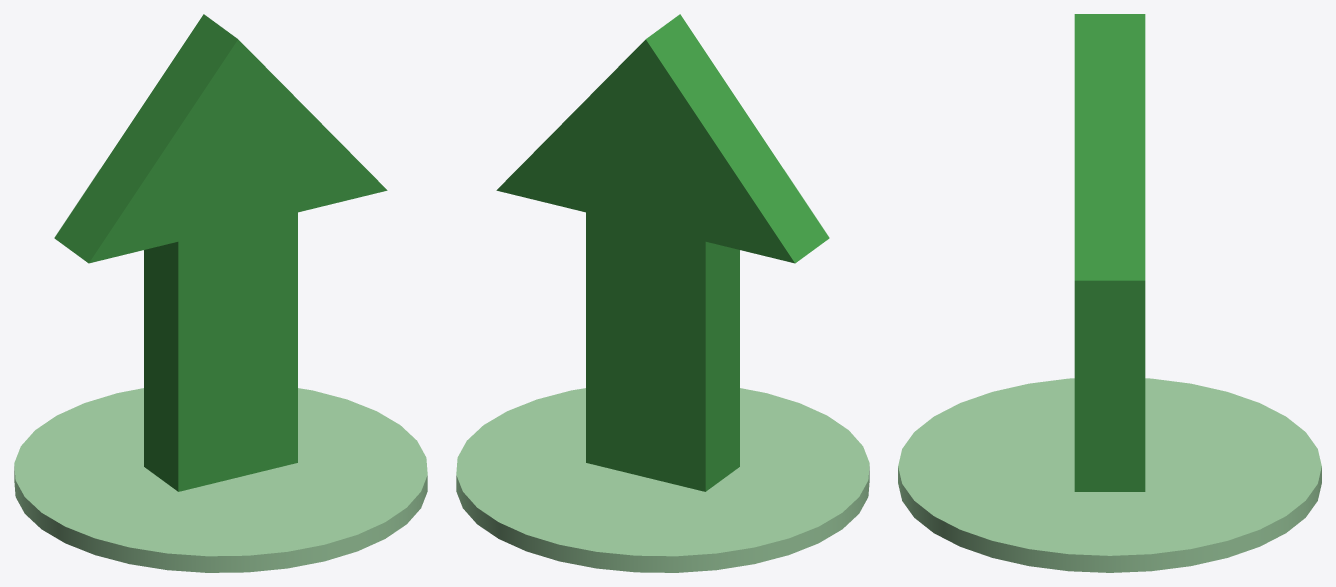
3 views of the same model, side by side, from view 1: azimuth 30°, elevation 25°; view 2: azimuth 150°, elevation 25°; view 3: azimuth 270°, elevation 25° (orthographic). The views are drawn at different scales.
Parts seen in each view (by area): view 1: up; view 2: up; view 3: up.
Part boxes in pixels (<box>): up: <box>14,14,427,572</box>; up: <box>456,14,869,572</box>; up: <box>898,14,1321,572</box>.
Size of the model in its own units: 1.8 by 2.2 by 1.8.
